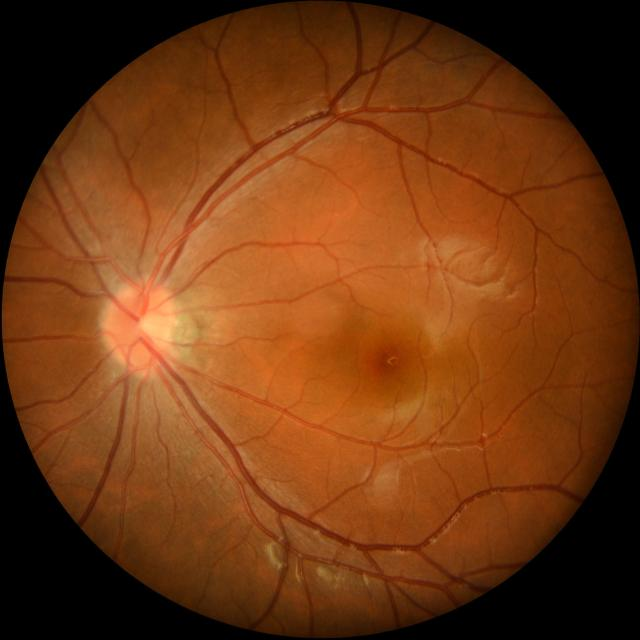OC: (138, 312, 164, 340)
OD: (103, 282, 177, 369)
